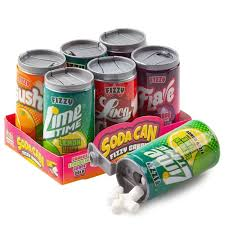can: (17, 29, 222, 203)
